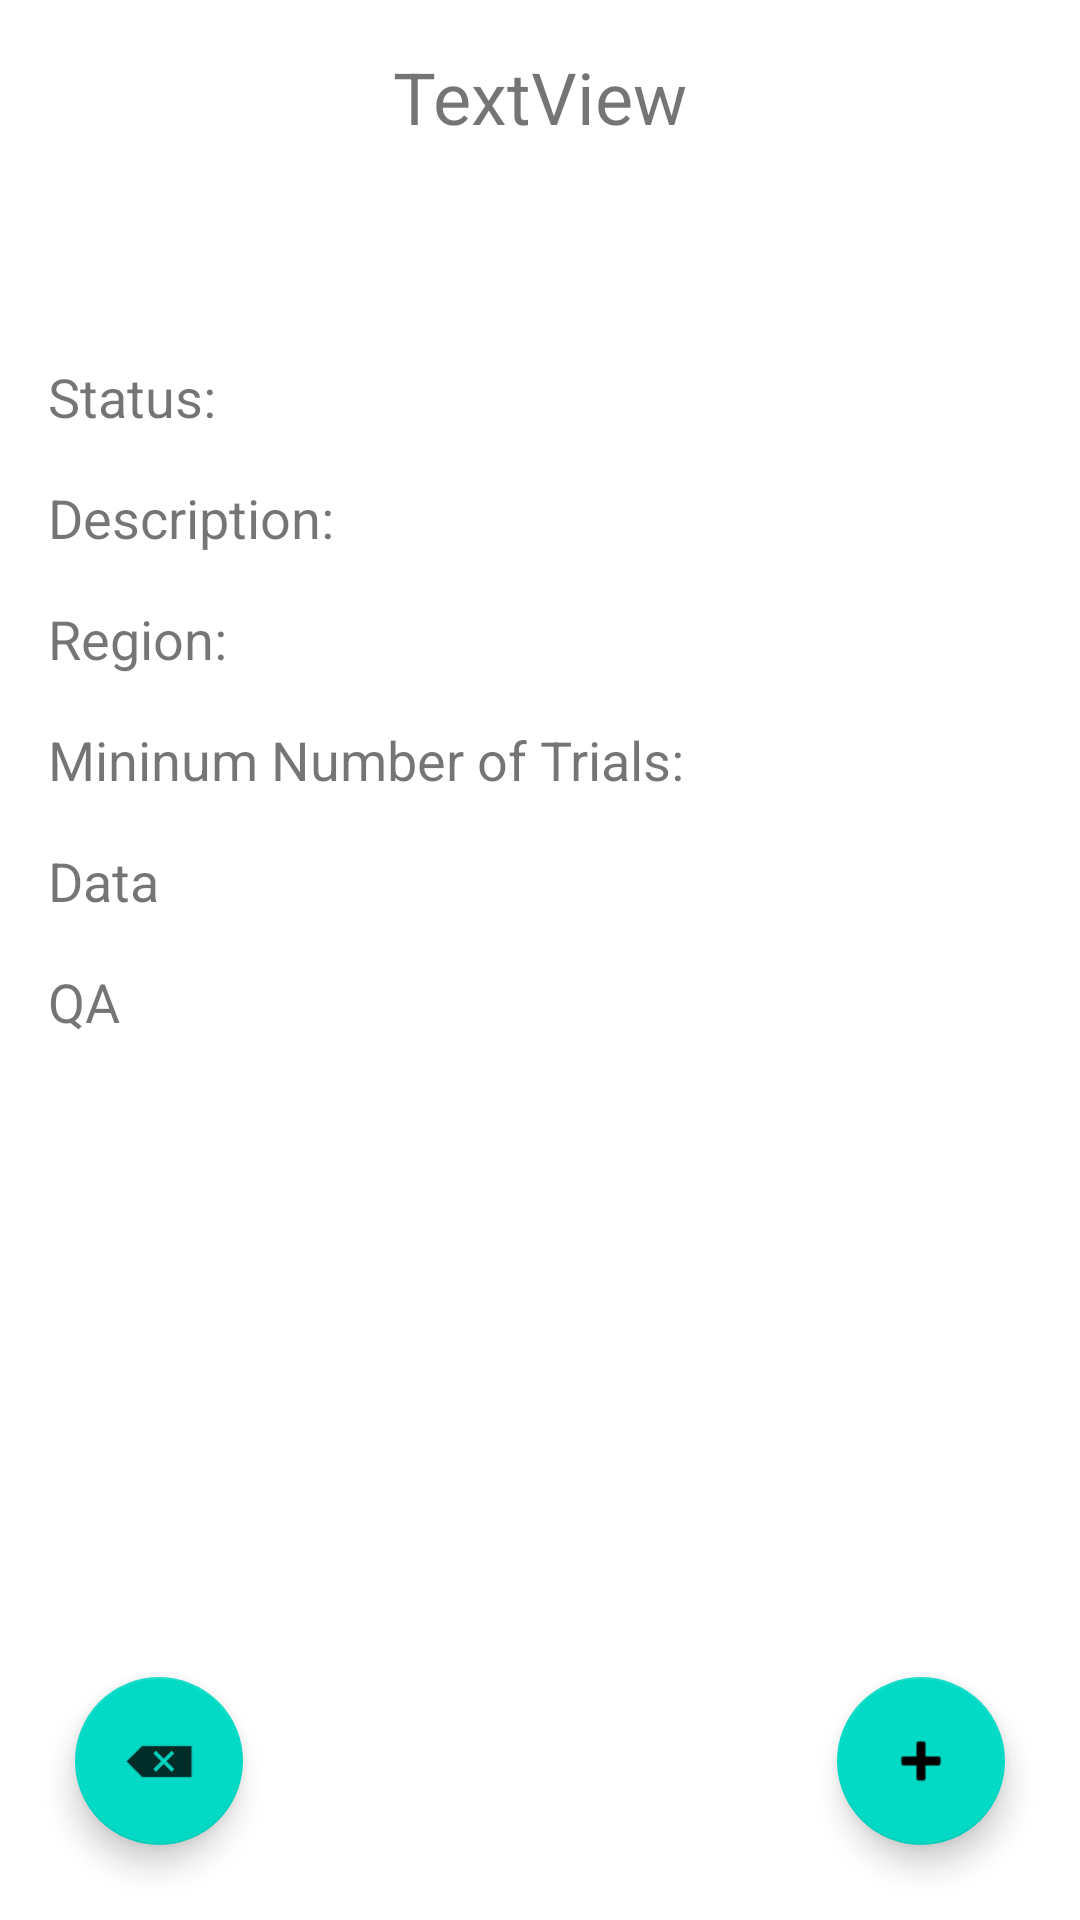

Icons on this 1080×1920 Android screen, each with its box as {"left": x1, "top": y1, "right": x2, "bottom": y2}:
add: {"left": 837, "top": 1677, "right": 1005, "bottom": 1845}
delete: {"left": 75, "top": 1677, "right": 243, "bottom": 1845}
